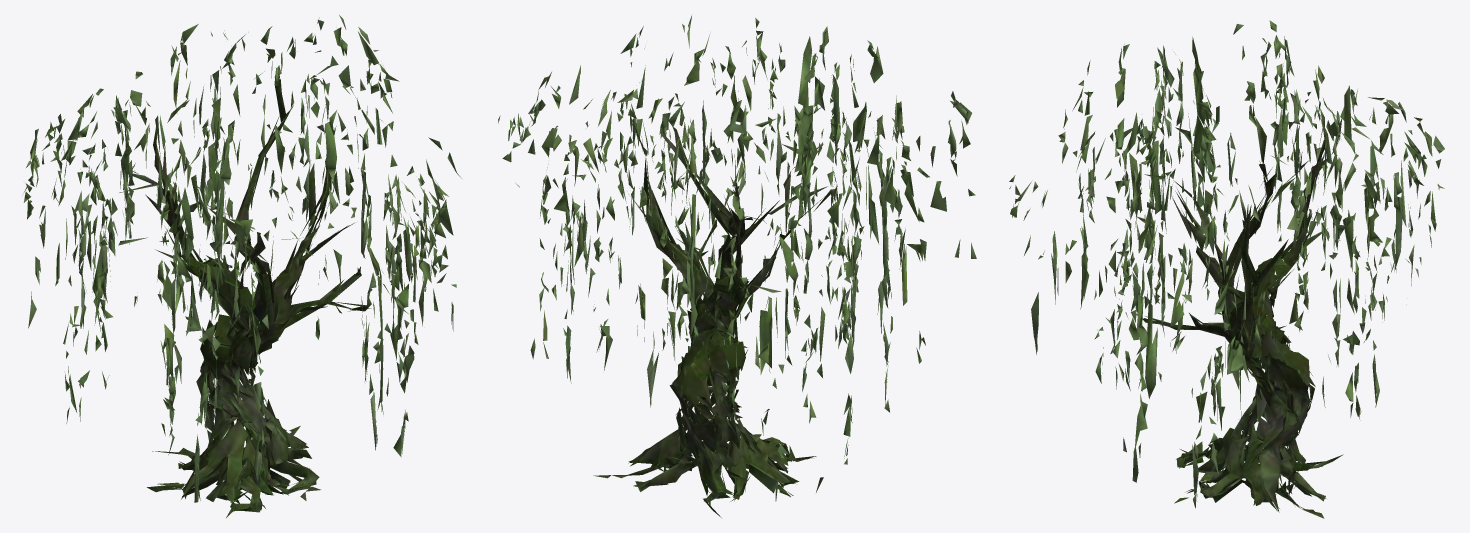
Rendered from salgueiro_brejo_jovem.glb.
The picture shows the model from 3 angles, left to right: view 1: azimuth 30°, elevation 25°; view 2: azimuth 150°, elevation 25°; view 3: azimuth 270°, elevation 25°; orthographic projection. The views are drawn at different scales.
Visible parts, largest first — view 1: geometry_0; view 2: geometry_0; view 3: geometry_0.
Boxes of the visible parts, box(x1,y1,x2,y2) form: geometry_0: box(22, 15, 461, 517); geometry_0: box(498, 15, 976, 517); geometry_0: box(1009, 20, 1444, 518).
Size of the model in its own units: 0.791 by 0.931 by 0.8457.
1 material, 1 textured.
